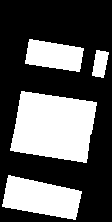parkingspot: (2, 175, 81, 219), (10, 119, 90, 162), (16, 91, 96, 133), (25, 39, 83, 71), (92, 50, 108, 77)
